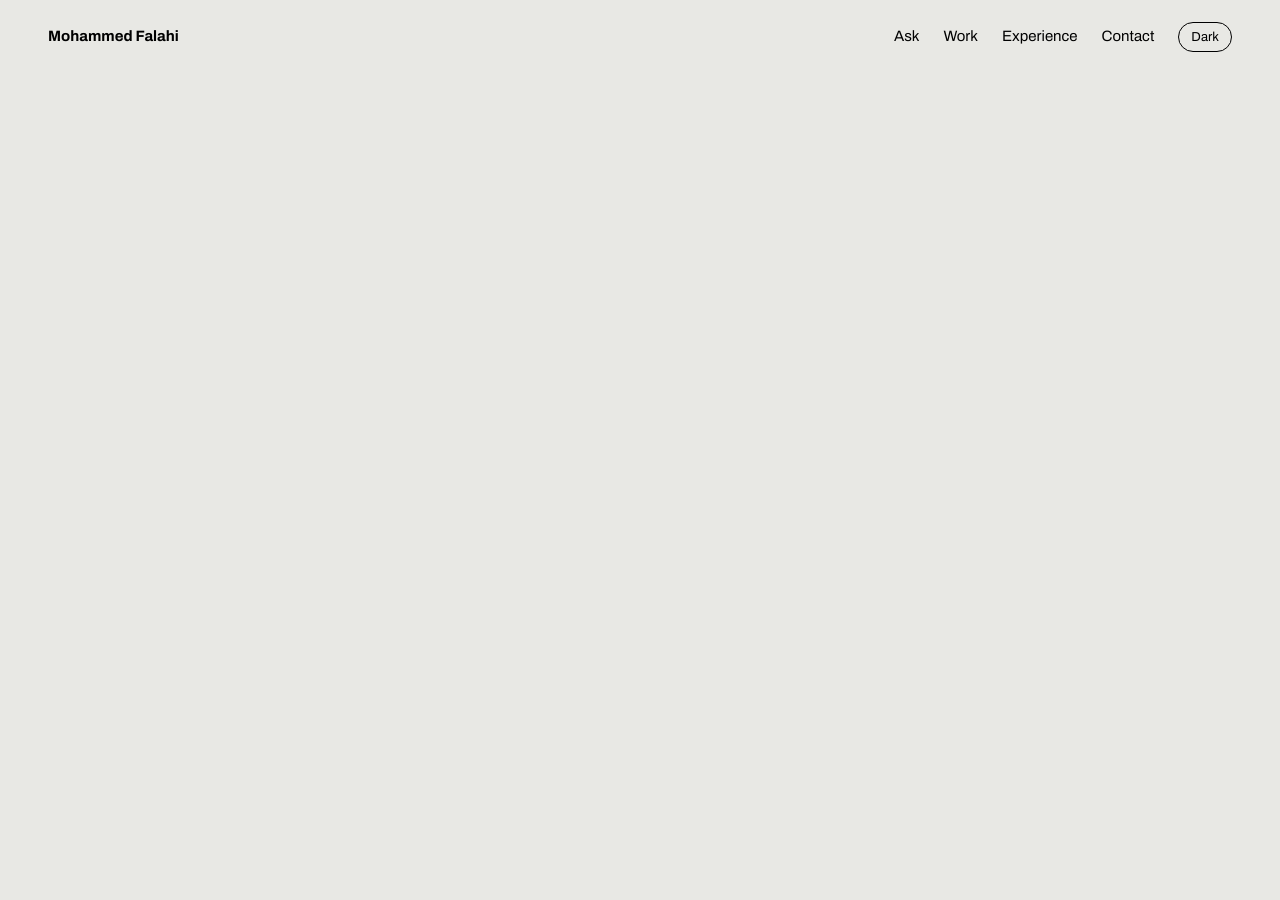
Test case: Header › flips the theme toggle text, label and dark class
This screenshot has width=1280, height=900.
Click the button with aria-label "Switch to dark mode".
click(1205, 37)  # box [1178,22,1232,52]
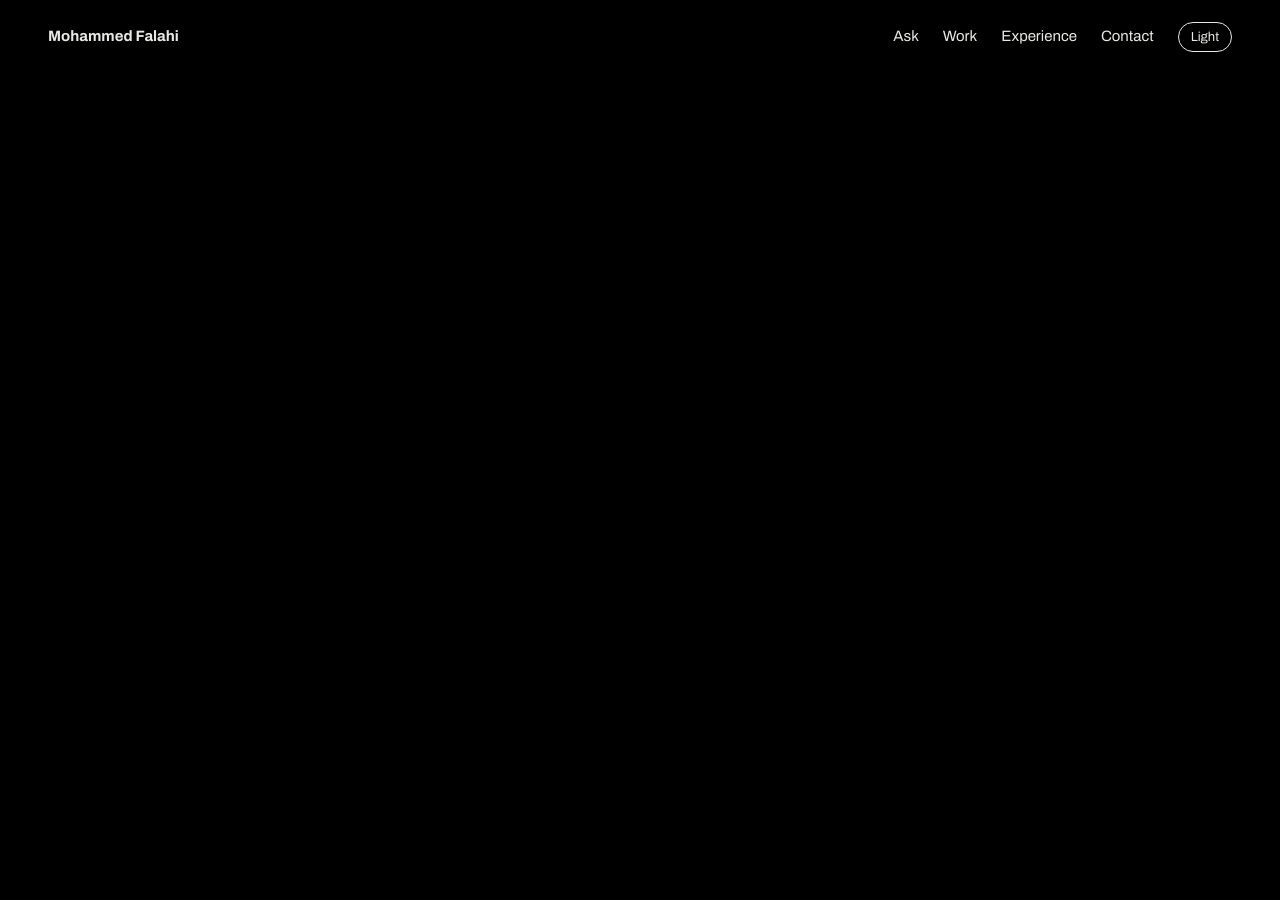
Result: the button with aria-label "Switch to light mode" reads "Light"
Click the button with aria-label "Switch to light mode".
click(1205, 37)  # box [1178,22,1232,52]
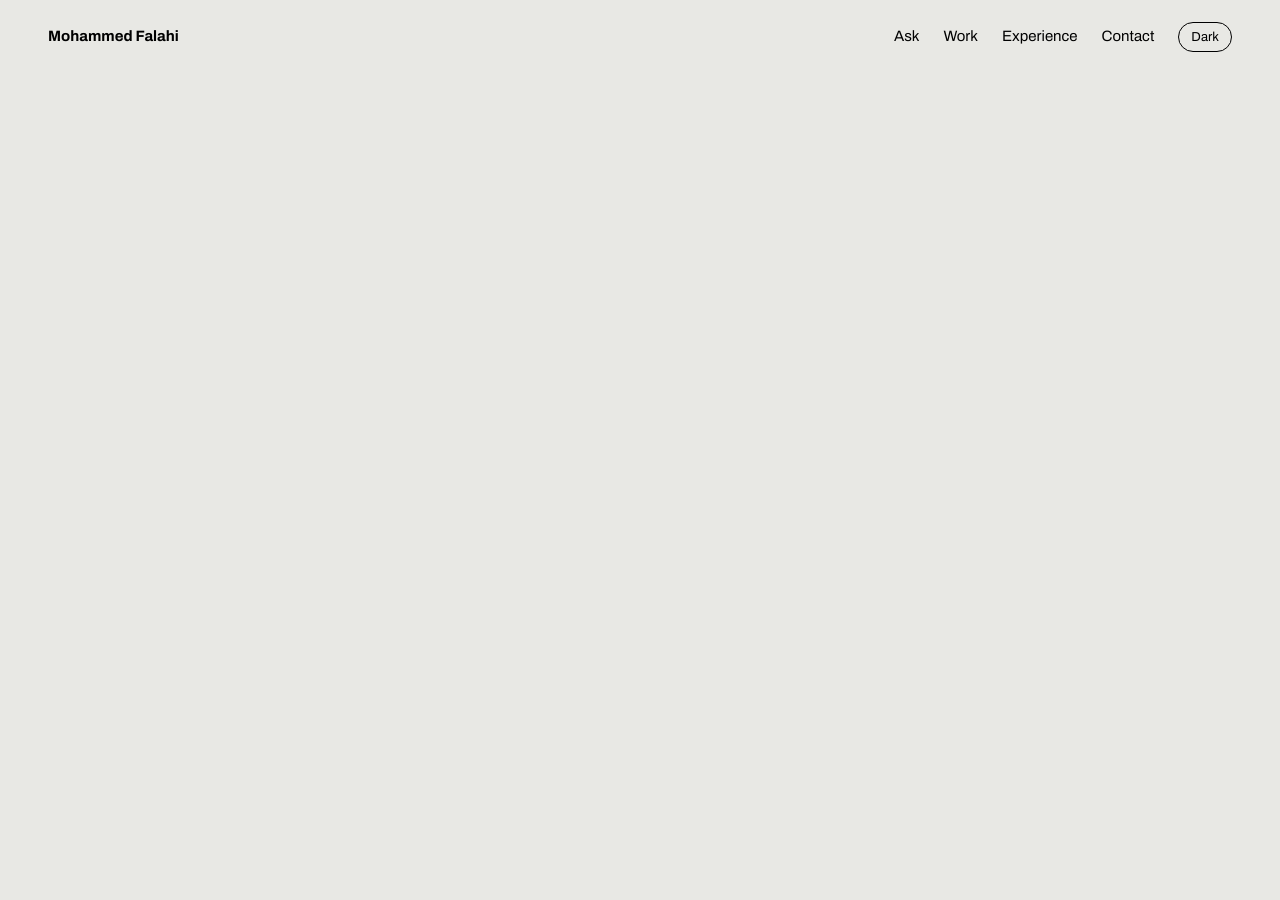
Result: the button with aria-label "Switch to dark mode" reads "Dark" at [1178,22,1232,52]
